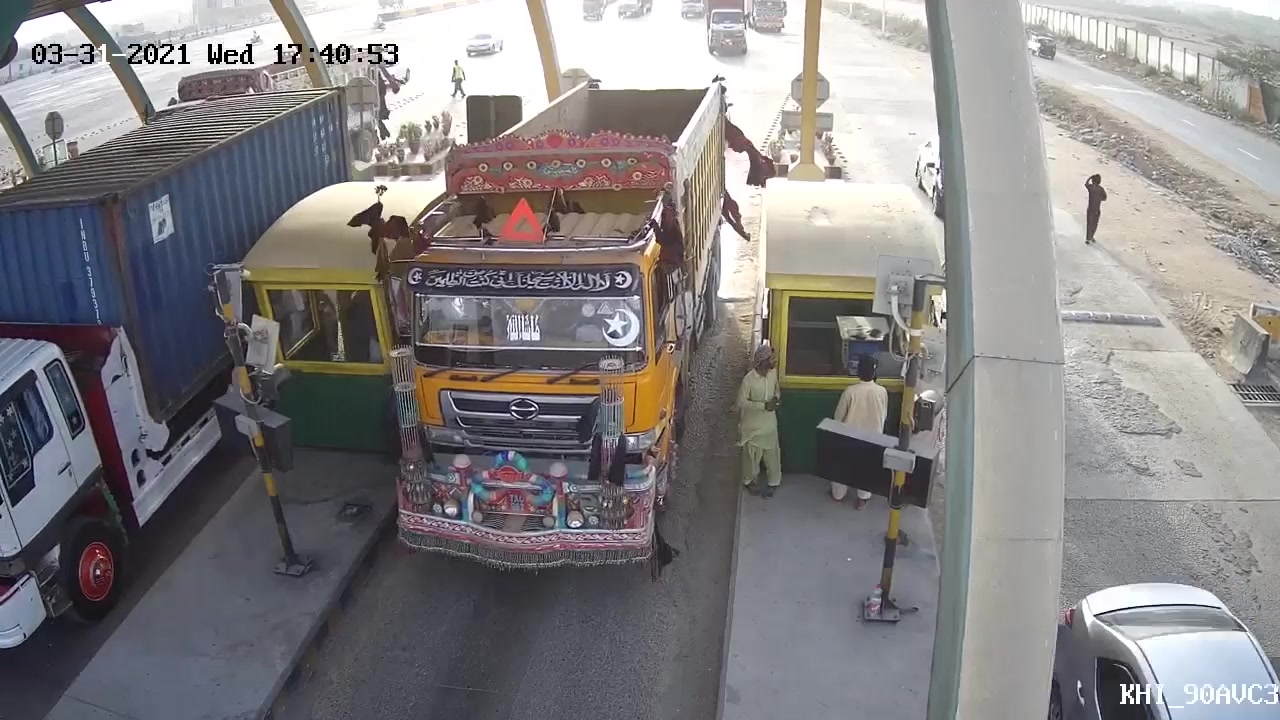F5: (385, 147, 696, 612)
